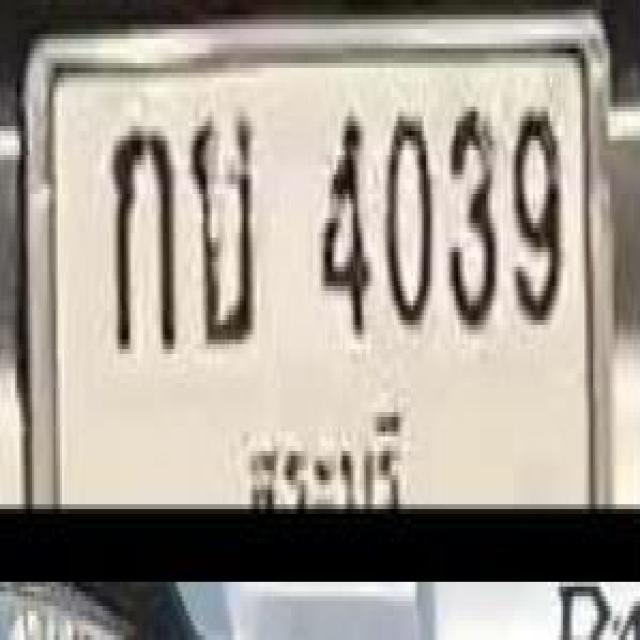license_plate: (25, 23, 612, 507)
